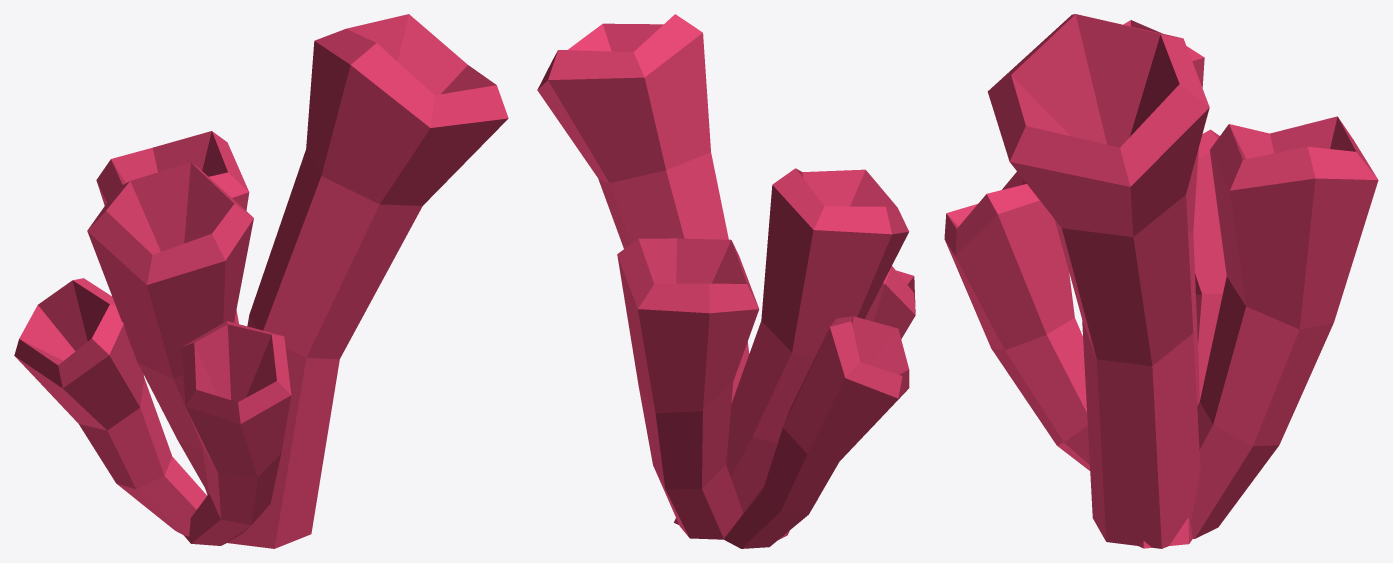
File: Coral12.fbx
3 renders of one model, left to right at view 1: azimuth 30°, elevation 25°; view 2: azimuth 150°, elevation 25°; view 3: azimuth 270°, elevation 25°, orthographic. The views are drawn at different scales.
Parts seen in each view (by area): view 1: Coral12; view 2: Coral12; view 3: Coral12.
Part boxes in pixels (x1,y1,x2,y2): Coral12: [14, 14, 508, 548]; Coral12: [537, 14, 915, 548]; Coral12: [944, 14, 1378, 548].
Bounding box in the file's own units: 1.29 × 1.44 × 1.02.
